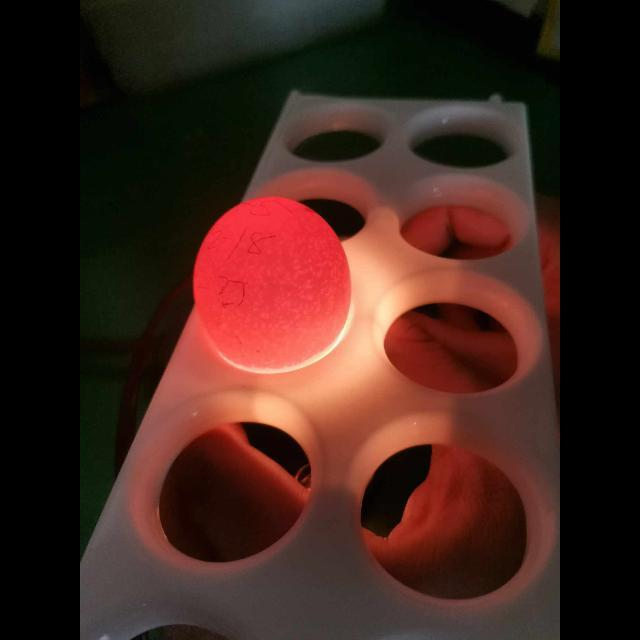Infertile: (200, 192, 352, 364)
